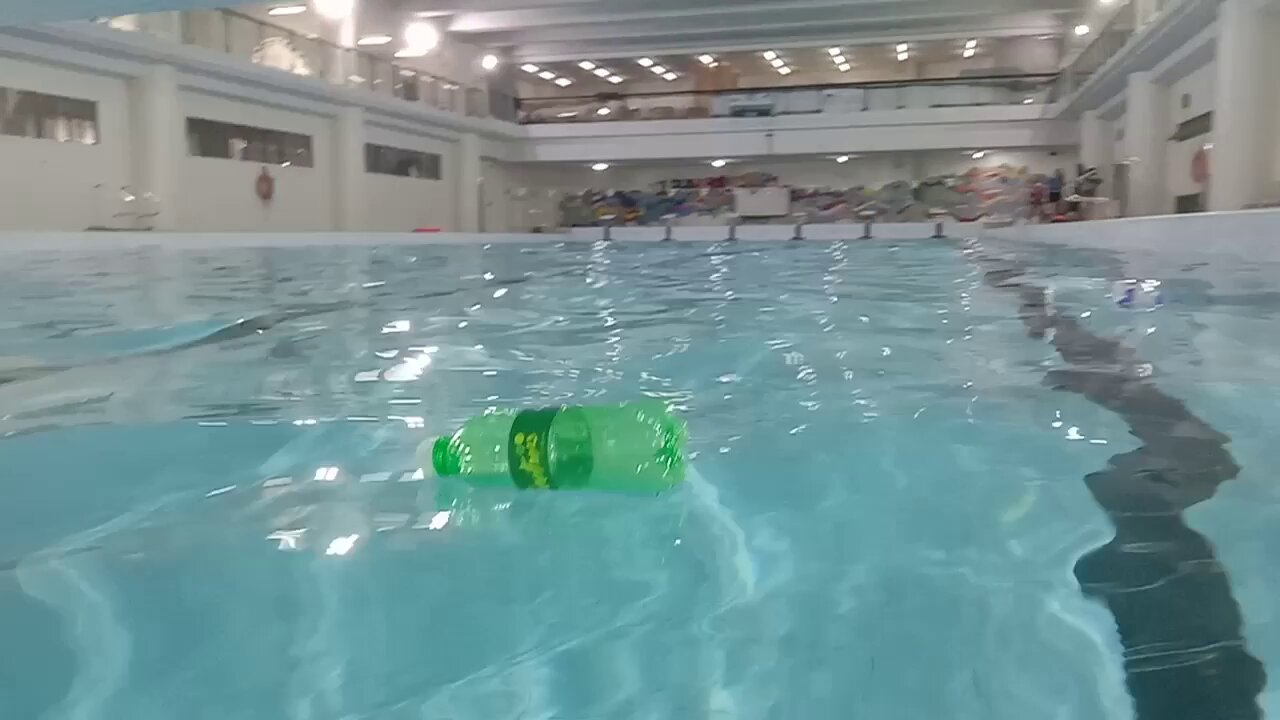plastic_bottle: (418, 400, 687, 493), (1044, 272, 1171, 310)
